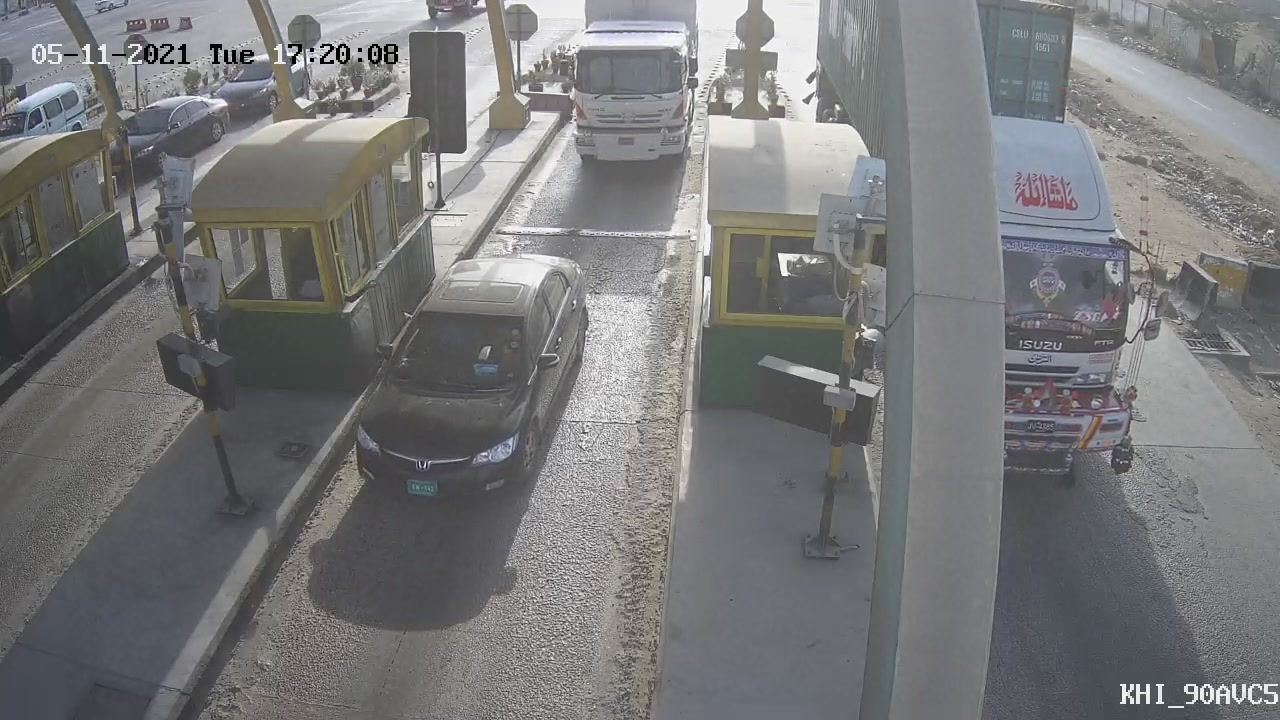F1: (322, 235, 611, 536)
